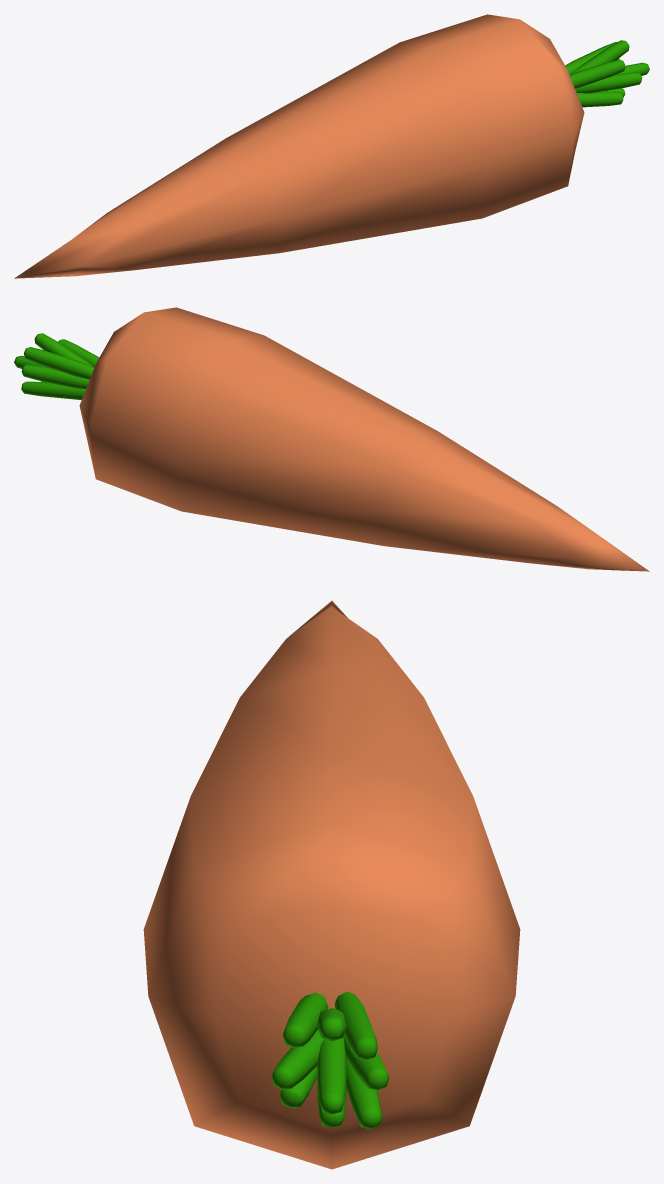
File: Carrot.fbx
The picture shows the model from 3 angles, top to bottom: view 1: azimuth 30°, elevation 25°; view 2: azimuth 150°, elevation 25°; view 3: azimuth 270°, elevation 25°; orthographic projection. The views are drawn at different scales.
Visible parts, largest first — view 1: pCube12, pCube17, pCube21, pCube18, pCube15; view 2: pCube12, pCube16, pCube20, pCube14, pCube18; view 3: pCube12, pCube13, pCube16, pCube21, pCube17, pCube14, pCube20.
Boxes of the visible parts, left/top/right/bottom form: pCube12: left=14, top=14, right=584, bottom=278; pCube17: left=569, top=59, right=625, bottom=88; pCube21: left=575, top=72, right=641, bottom=93; pCube18: left=570, top=40, right=629, bottom=74; pCube15: left=577, top=91, right=623, bottom=107; pCube12: left=79, top=307, right=649, bottom=571; pCube16: left=24, top=347, right=94, bottom=379; pCube20: left=21, top=364, right=89, bottom=388; pCube14: left=21, top=381, right=85, bottom=399; pCube18: left=34, top=333, right=93, bottom=366; pCube12: left=143, top=601, right=520, bottom=1169; pCube13: left=317, top=1037, right=346, bottom=1114; pCube16: left=334, top=991, right=377, bottom=1060; pCube21: left=271, top=1029, right=323, bottom=1089; pCube17: left=282, top=992, right=328, bottom=1047; pCube14: left=346, top=1061, right=382, bottom=1128; pCube20: left=343, top=1035, right=389, bottom=1090.
Bounding box in the file's own units: 3.28 × 0.873 × 0.8431.
